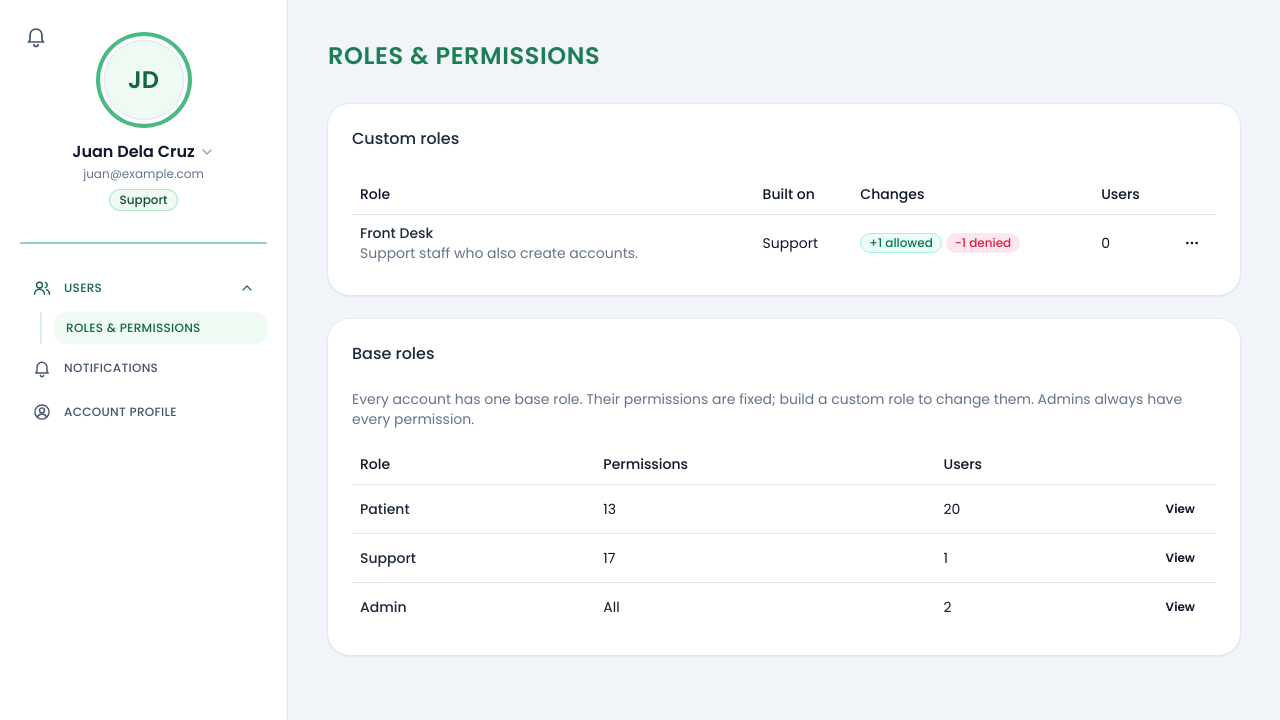
Test: RolesPage › hides editing from users who can only view roles
Click the button named "Actions for Front Desk": {"x": 1192, "y": 242} [1176,226,1208,258]
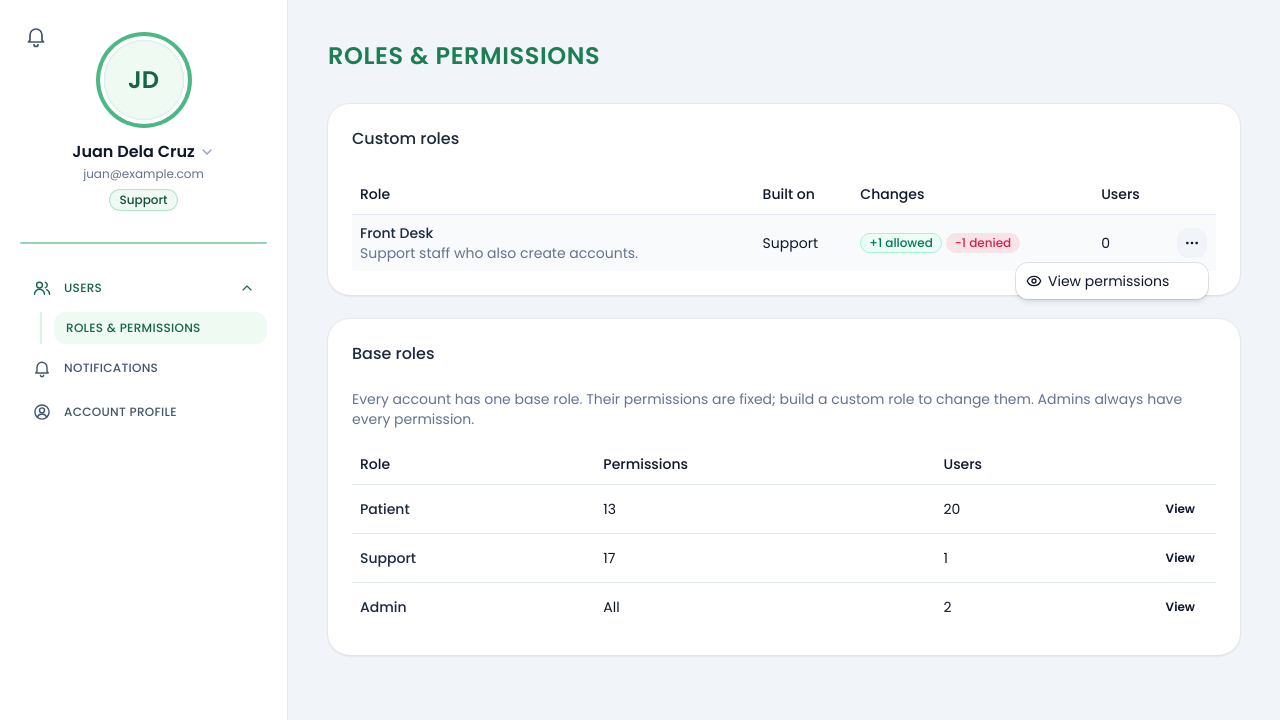
Expected: the menu item "View permissions" is shown, [1026,271,1169,291]
